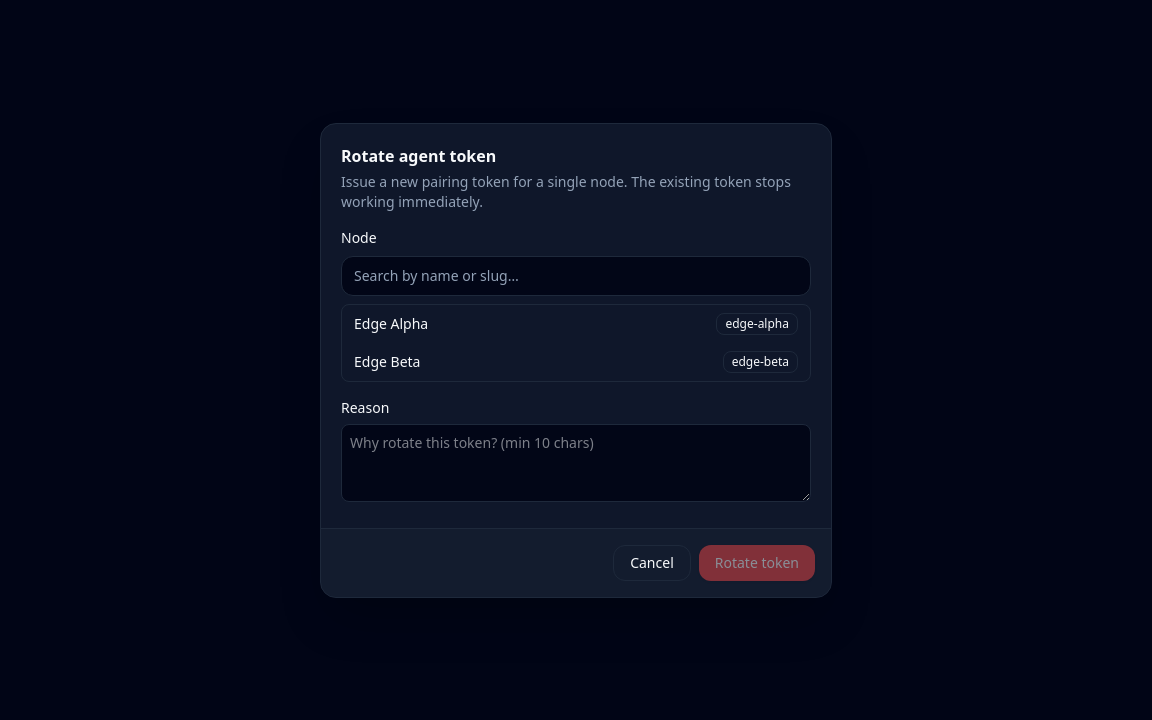
Test: RotateTokenFlow › surfaces API errors without closing modal
The width and height of the screenshot is (1152, 720).
Click the text "Edge Alpha": (391, 324) 354,314 -> 428,334
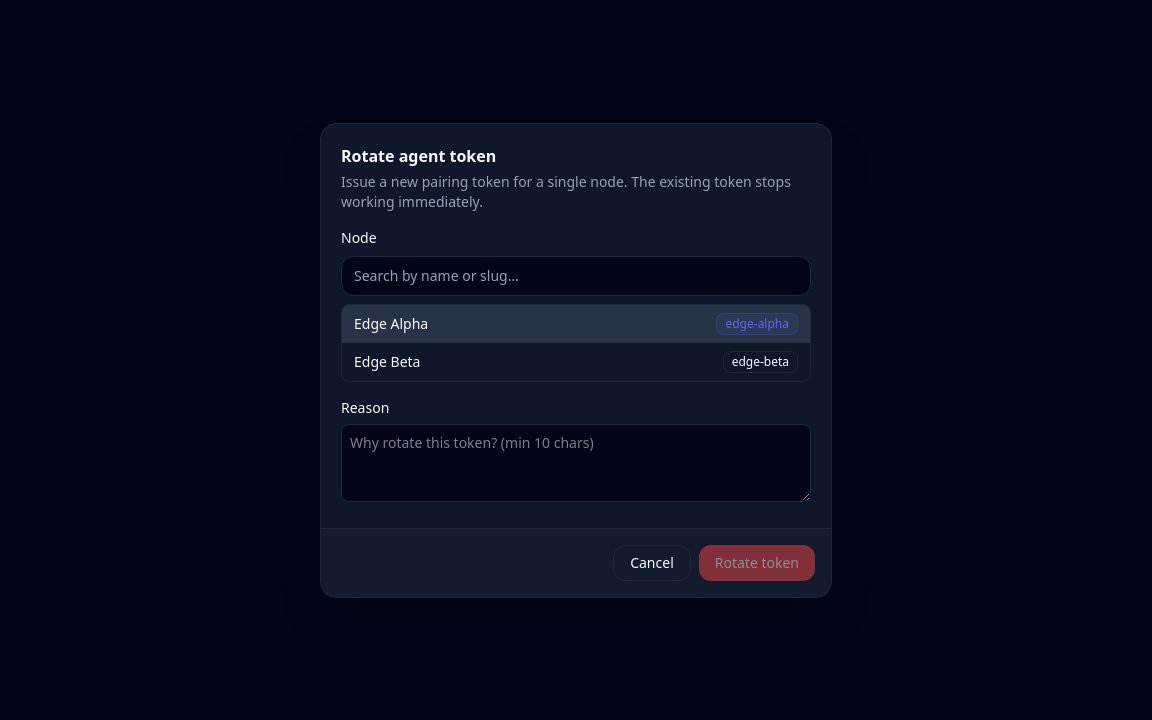
In the text box labelled "Reason": (576, 462) 341,424 -> 811,502, type "Requires fresh token for audit"
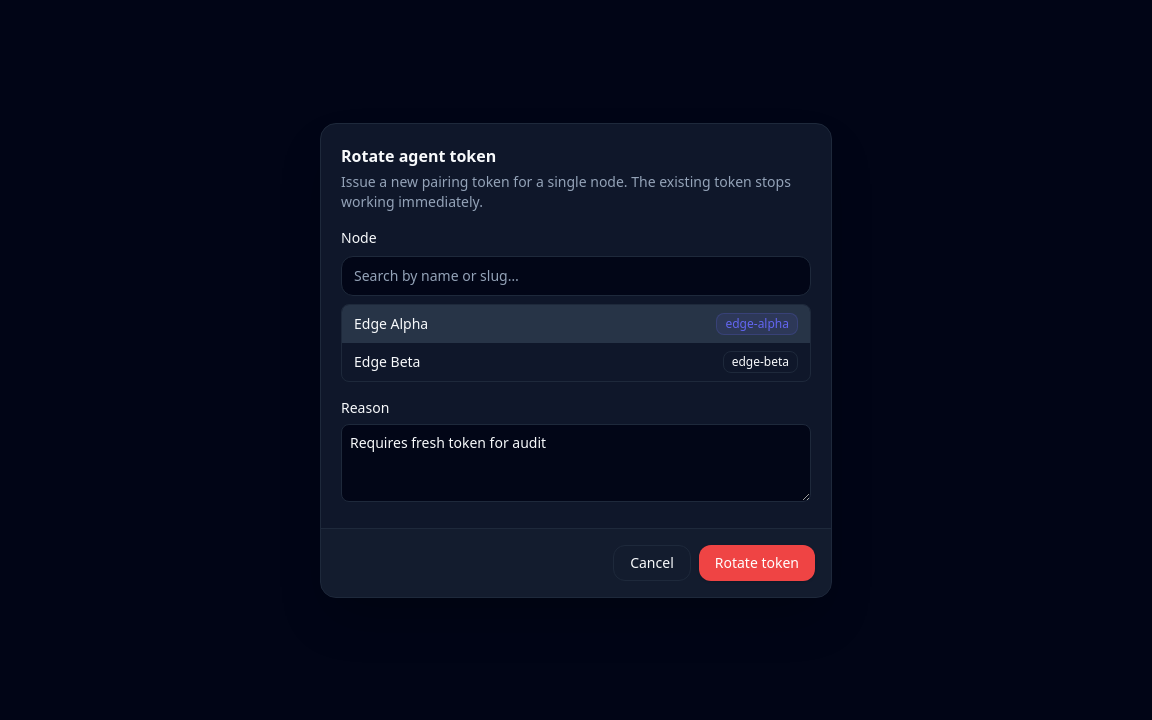
Click the button "Rotate token": (757, 562) 699,544 -> 815,580
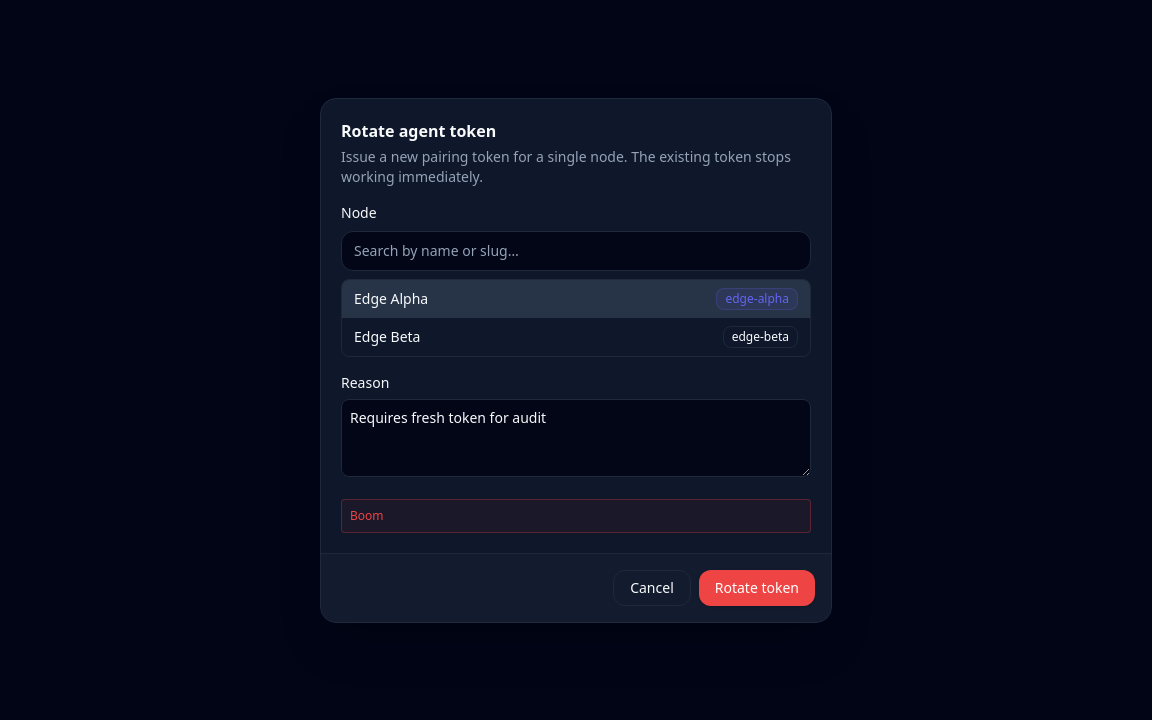
Result: the text "Boom" is shown at 341,498 -> 811,532
